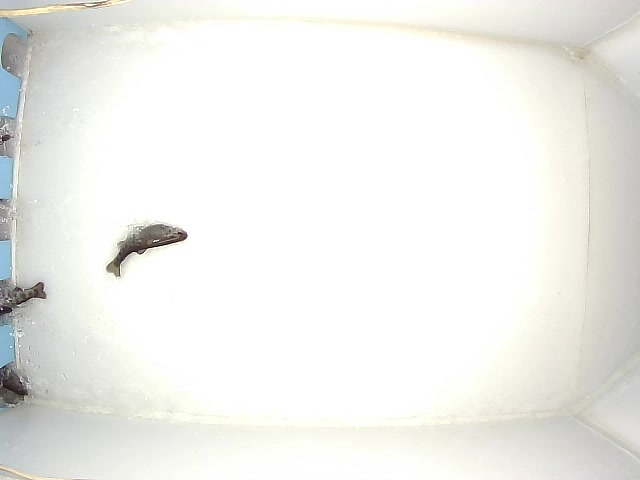fish: (101, 221, 190, 281)
